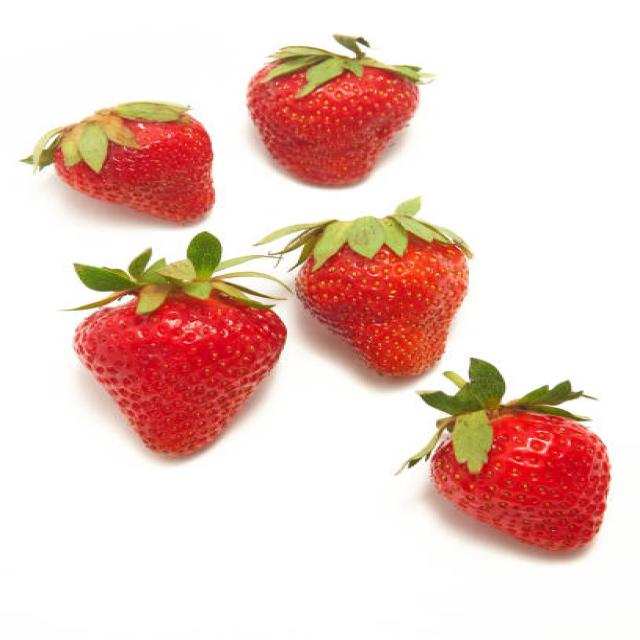Healthy Fruit: (71, 291, 289, 456), (429, 410, 612, 554), (298, 231, 468, 377), (249, 54, 422, 186), (49, 106, 216, 224)
